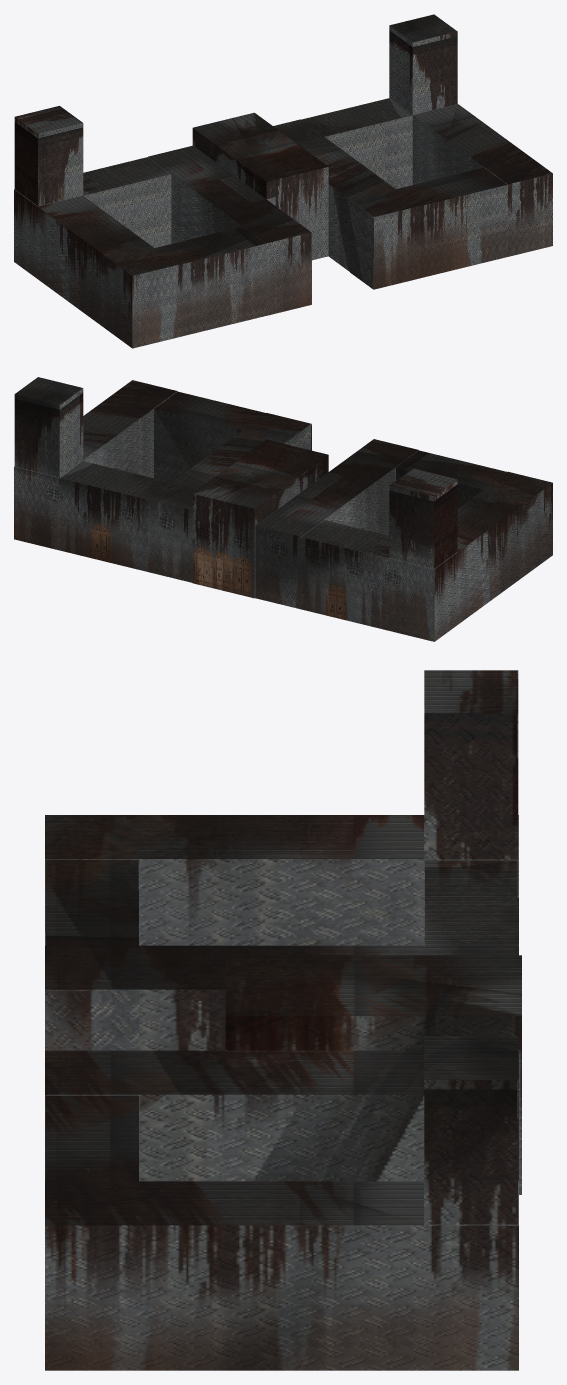
File: ub_lvl2_low.fbx
3 renders of one model, top to bottom at view 1: azimuth 30°, elevation 25°; view 2: azimuth 150°, elevation 25°; view 3: azimuth 270°, elevation 25°, orthographic. The views are drawn at different scales.
Visible parts, largest first — view 1: EntradaCentro.006; view 2: EntradaCentro.006; view 3: EntradaCentro.006.
Part boxes in pixels (x1,y1,x2,y2): EntradaCentro.006: [14, 14, 552, 348]; EntradaCentro.006: [14, 377, 552, 641]; EntradaCentro.006: [45, 670, 521, 1370].
Bounding box in the file's own units: 7867 × 2595 × 3863.
